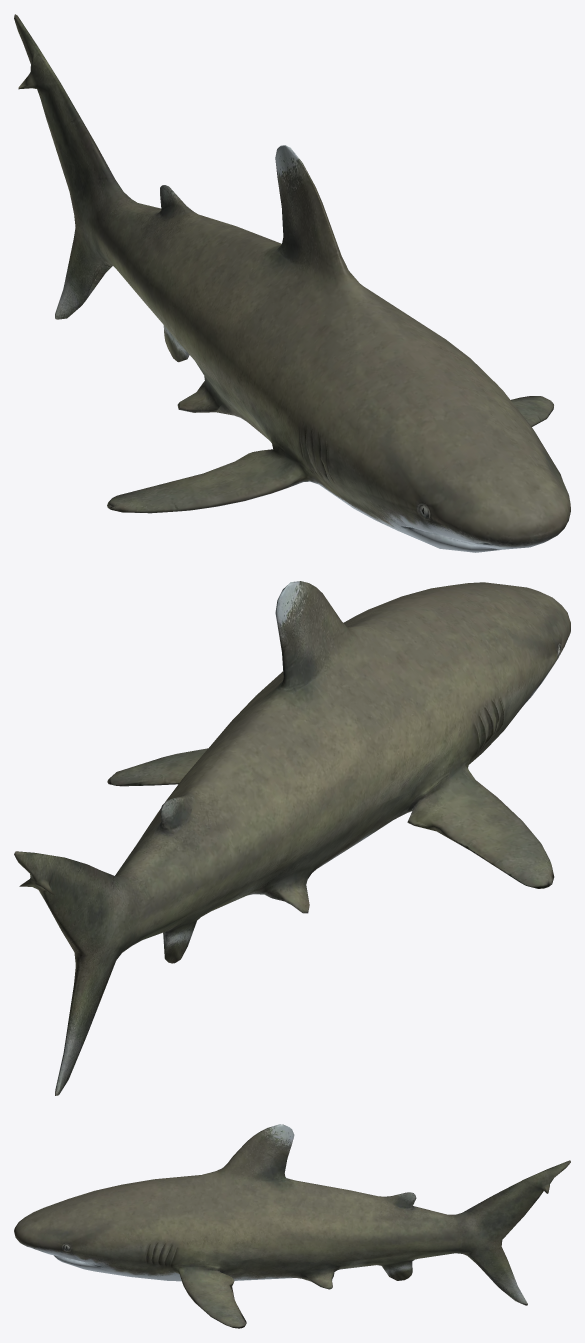
Rendered from whitetip-shark_lod1.glb.
3 views of the same model, one above another, from view 1: azimuth 30°, elevation 25°; view 2: azimuth 150°, elevation 25°; view 3: azimuth 270°, elevation 25° (orthographic). The views are drawn at different scales.
Parts seen in each view (by area): view 1: node_id396; view 2: node_id396; view 3: node_id396.
Boxes of the visible parts, box(x1,y1,x2,y2) form: node_id396: box(14, 14, 570, 552); node_id396: box(14, 581, 570, 1095); node_id396: box(14, 1124, 570, 1328).
Size of the model in its own units: 0.5118 by 0.3804 by 1.06.
Materials: 1 (1 with a texture image).
